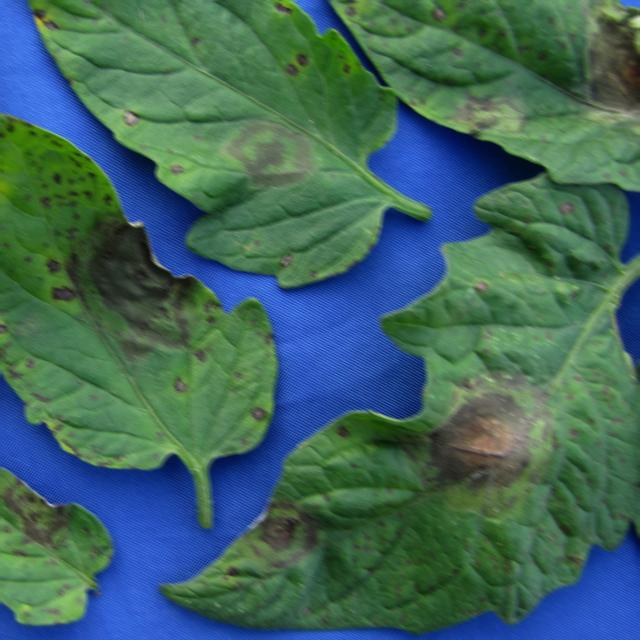Tomato leaf late blight: (148, 191, 640, 640), (0, 86, 290, 513), (0, 0, 405, 271), (307, 0, 640, 171)
